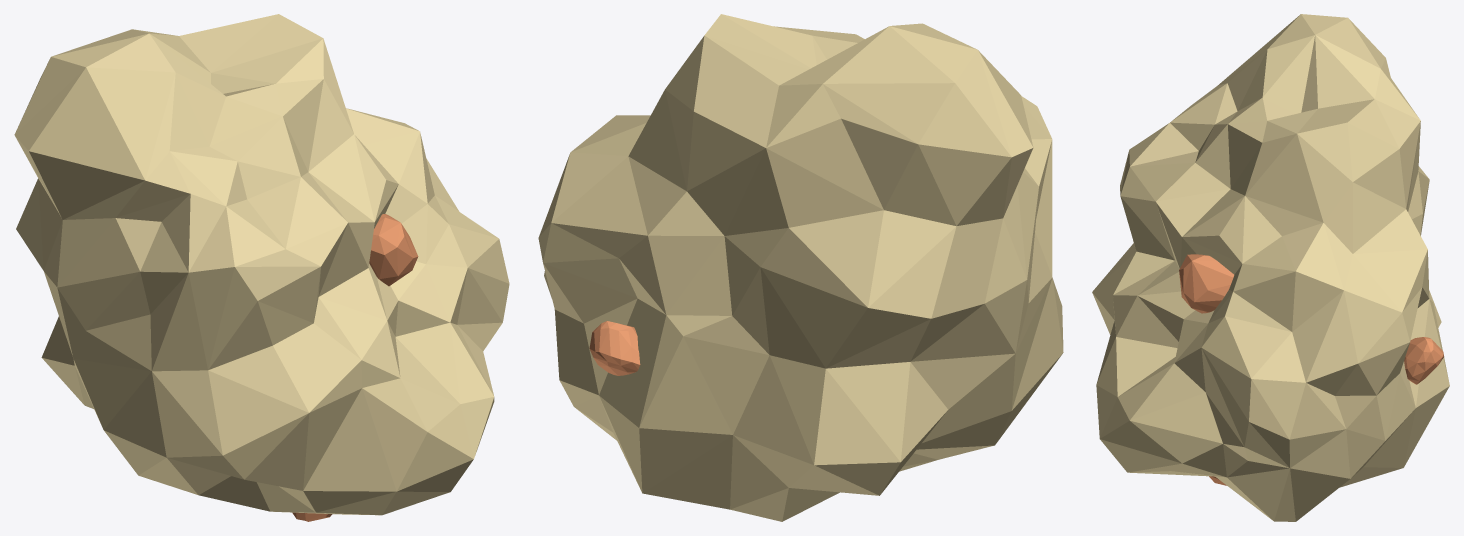
Rendered from StoneOre (34).fbx.
The picture shows the model from 3 angles, left to right: view 1: azimuth 30°, elevation 25°; view 2: azimuth 150°, elevation 25°; view 3: azimuth 270°, elevation 25°; orthographic projection. The views are drawn at different scales.
Visible parts, largest first — view 1: Asteroid321; view 2: Asteroid321; view 3: Asteroid321.
Boxes of the visible parts, x1,y1,x2,y2 form: Asteroid321: [14, 14, 509, 521]; Asteroid321: [538, 14, 1063, 521]; Asteroid321: [1092, 14, 1449, 521].
Size of the model in its own units: 371 by 370 by 299.
